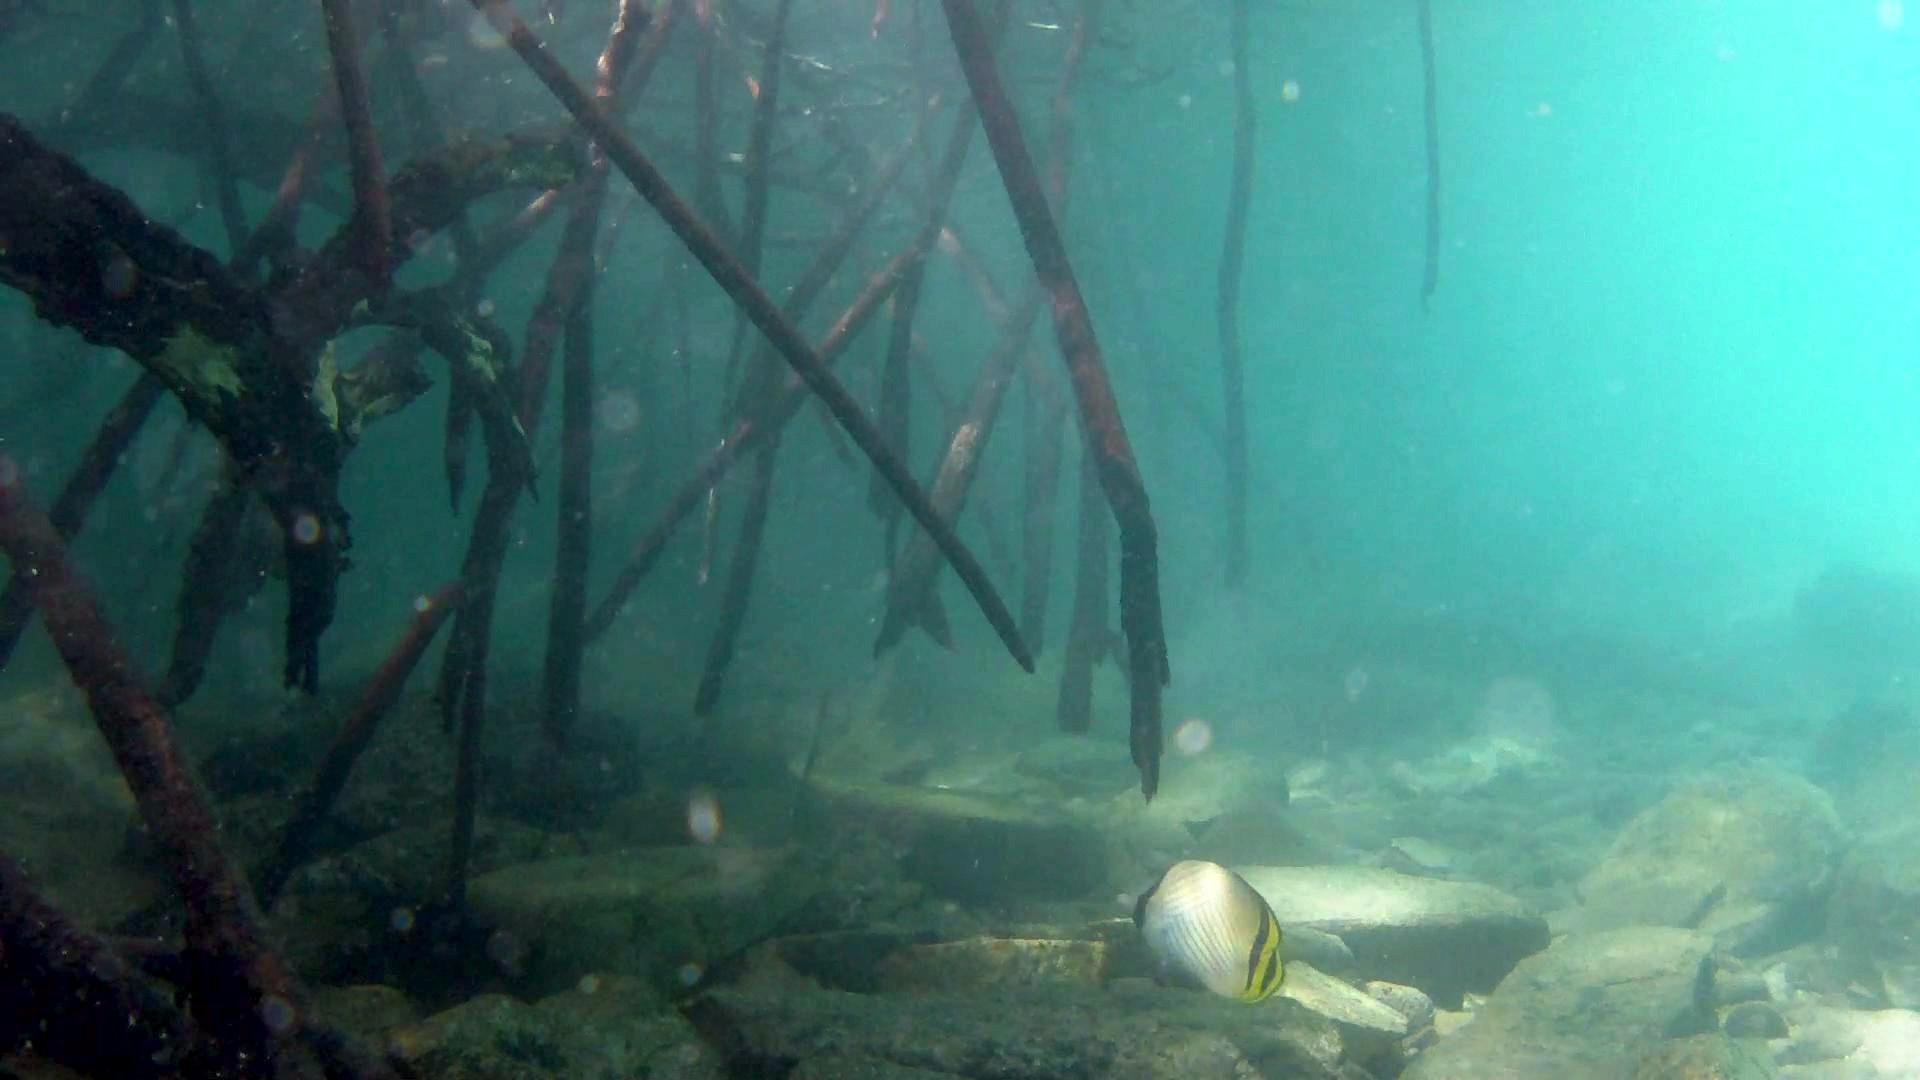chaetodon vagabundus: (1115, 858, 1287, 1007)
